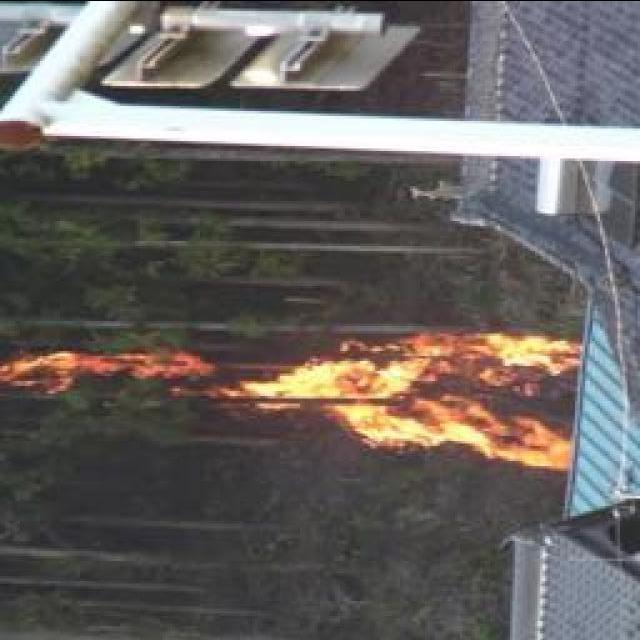Fire: (5, 328, 572, 476)
